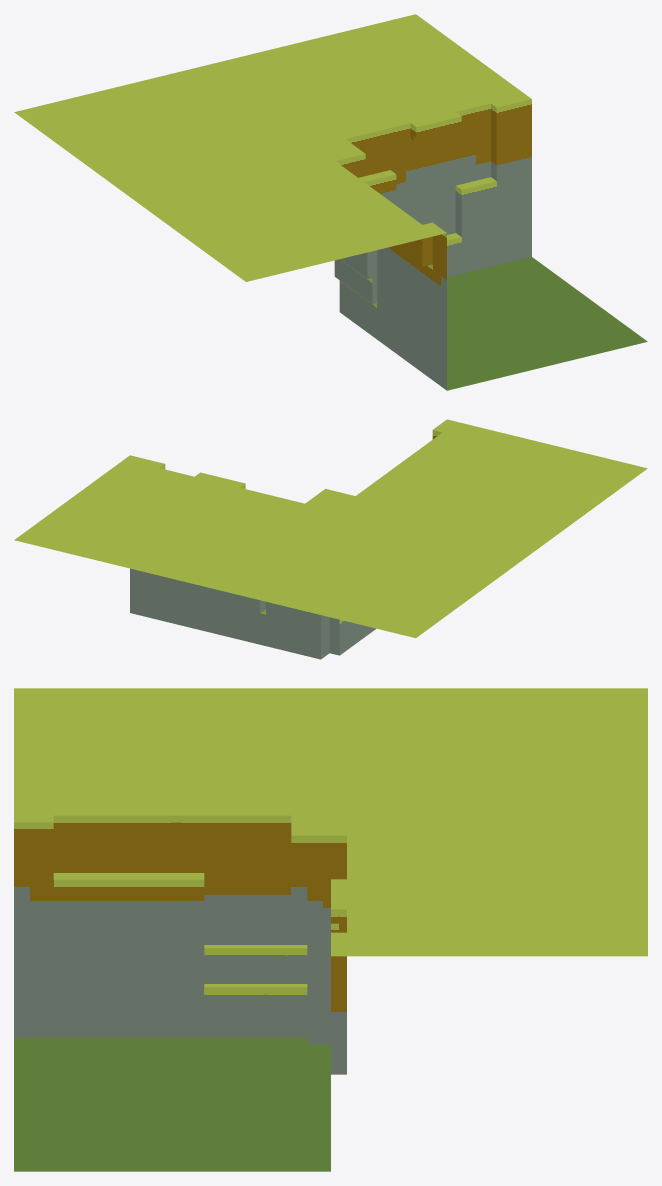
Rendered from MMLM(2).glb.
The picture shows the model from 3 angles, top to bottom: view 1: azimuth 30°, elevation 25°; view 2: azimuth 150°, elevation 25°; view 3: azimuth 270°, elevation 25°; orthographic projection. The views are drawn at different scales.
Visible parts, largest first — view 1: model_0.021; view 2: model_0.021; view 3: model_0.021.
Boxes of the visible parts, bbox=[...] form: model_0.021: bbox=[14, 14, 647, 390]; model_0.021: bbox=[14, 419, 647, 659]; model_0.021: bbox=[14, 688, 647, 1171].
Size of the model in its own units: 80 by 30 by 80.
1 material, 1 textured.
